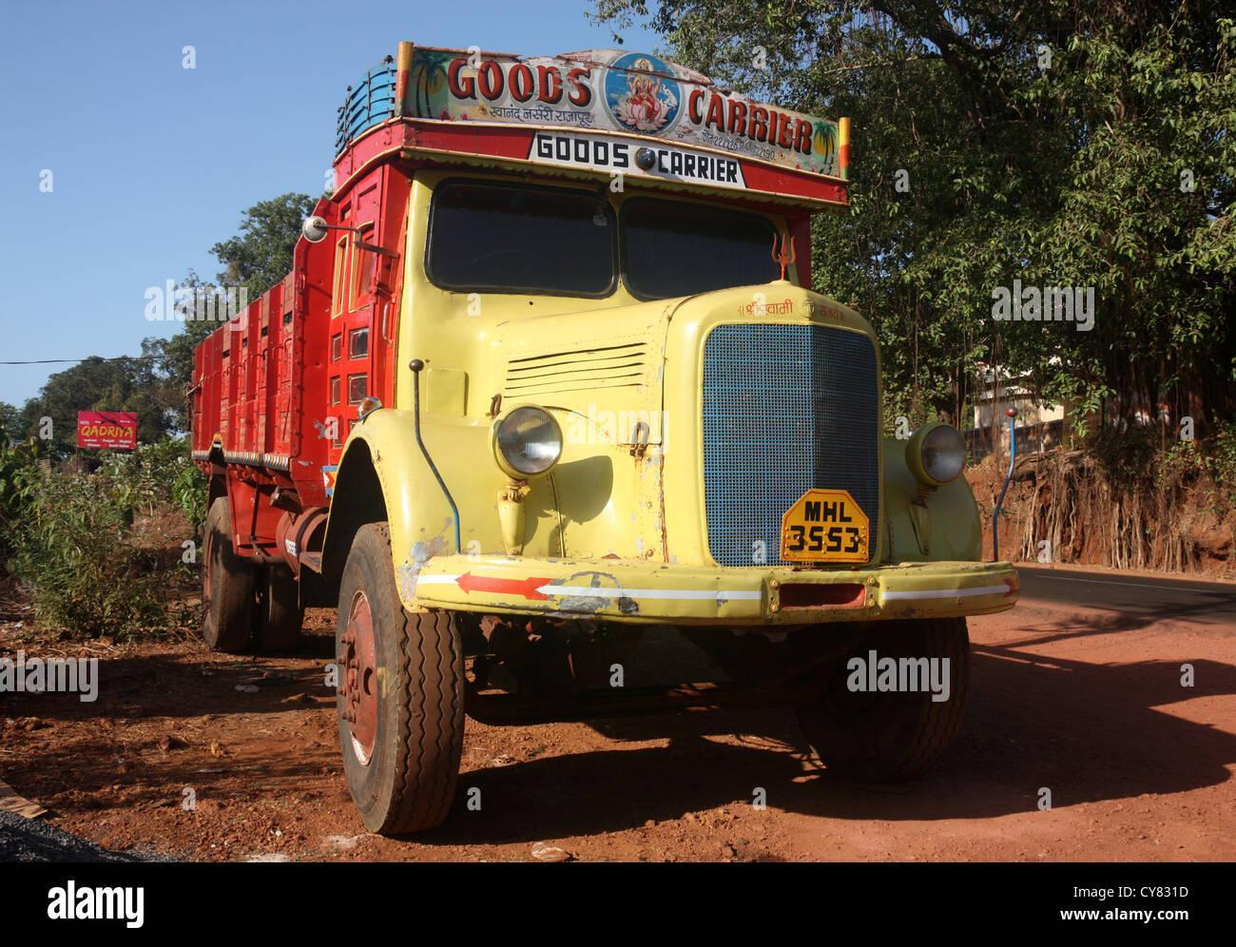truck: (202, 56, 1042, 789)
